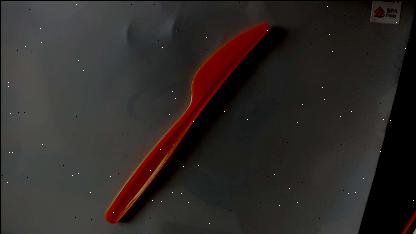Others: (103, 21, 269, 224)
